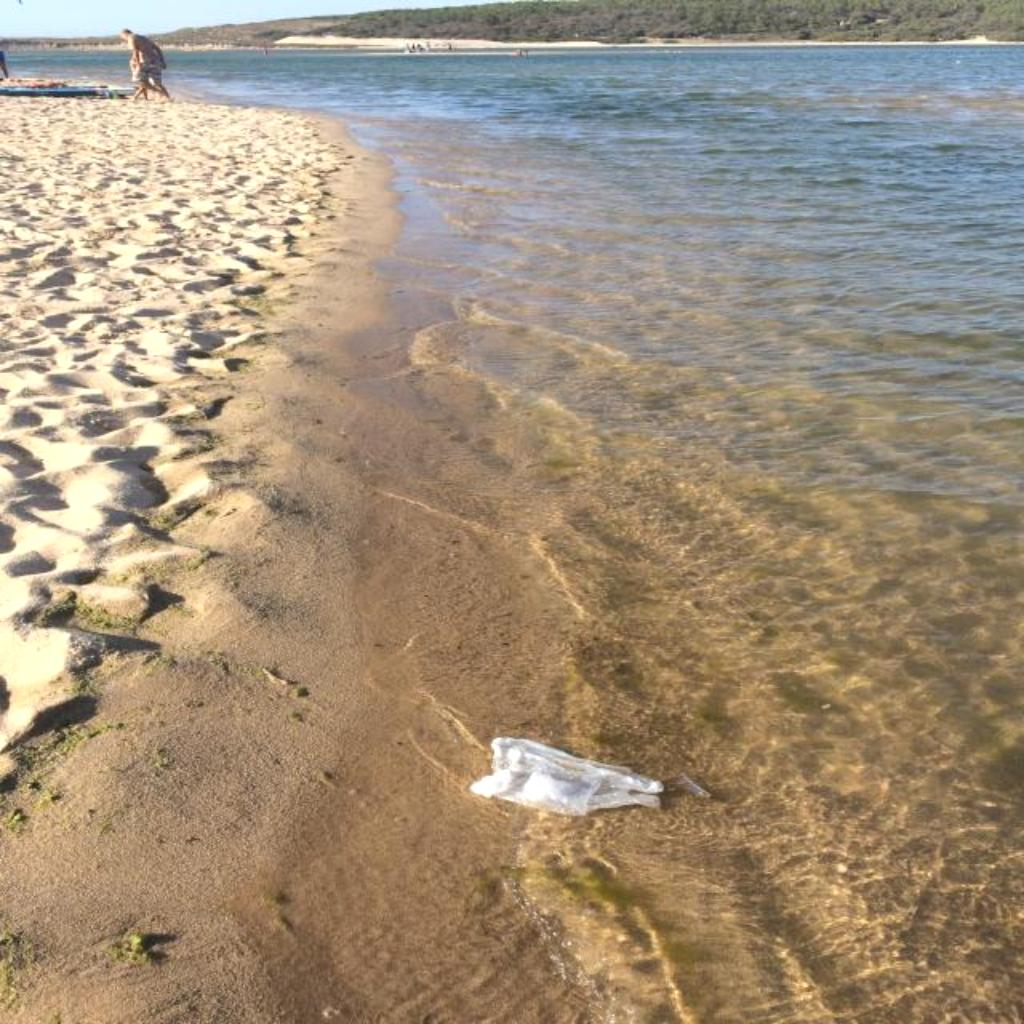garbage: (470, 728, 678, 826)
